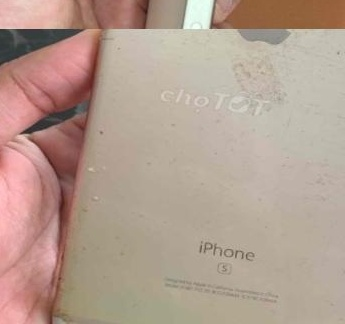scratch: (190, 29, 345, 135), (36, 284, 345, 324), (56, 118, 147, 253), (280, 132, 345, 303)
